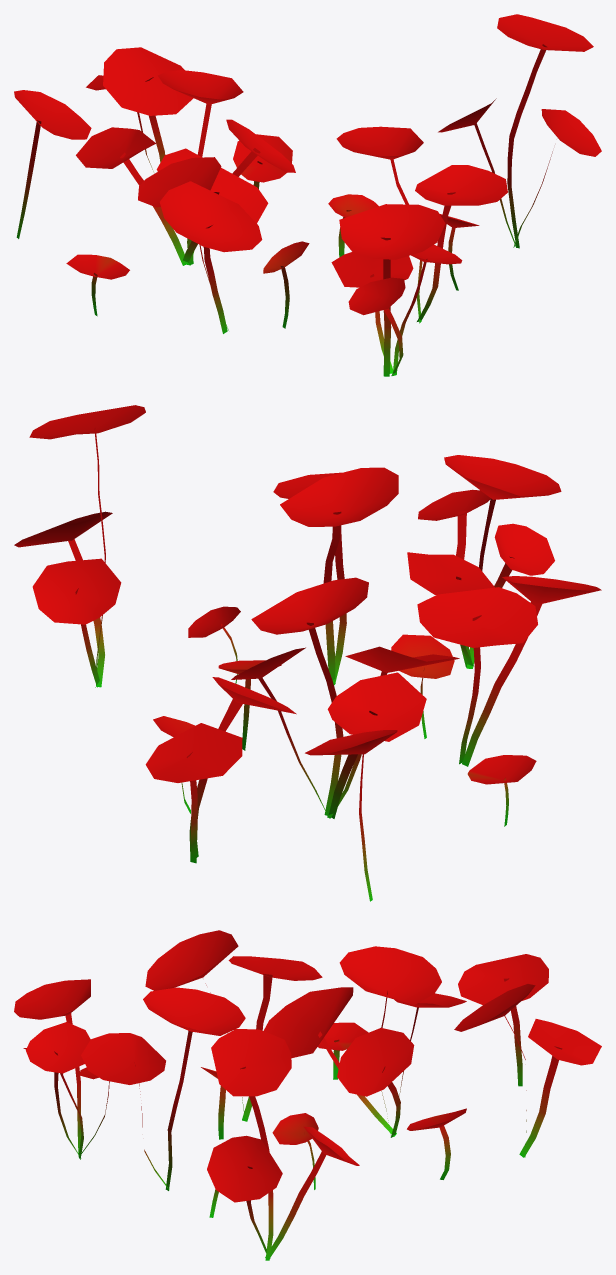
Rendered from Native Violet_LOD3_Var7_ultkcfeja.fbx.
The picture shows the model from 3 angles, top to bottom: view 1: azimuth 30°, elevation 25°; view 2: azimuth 150°, elevation 25°; view 3: azimuth 270°, elevation 25°; orthographic projection. The views are drawn at different scales.
Parts seen in each view (by area): view 1: _oexy_Var7_LOD3; view 2: _oexy_Var7_LOD3; view 3: _oexy_Var7_LOD3.
Boxes of the visible parts, x1,y1,x2,y2 form: _oexy_Var7_LOD3: (14,14,601,376); _oexy_Var7_LOD3: (14,405,601,901); _oexy_Var7_LOD3: (14,930,601,1260).
Bounding box in the file's own units: 27.41 × 12.74 × 30.56.
